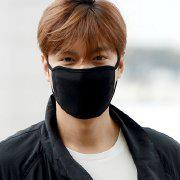OK: (49, 44, 119, 122)
